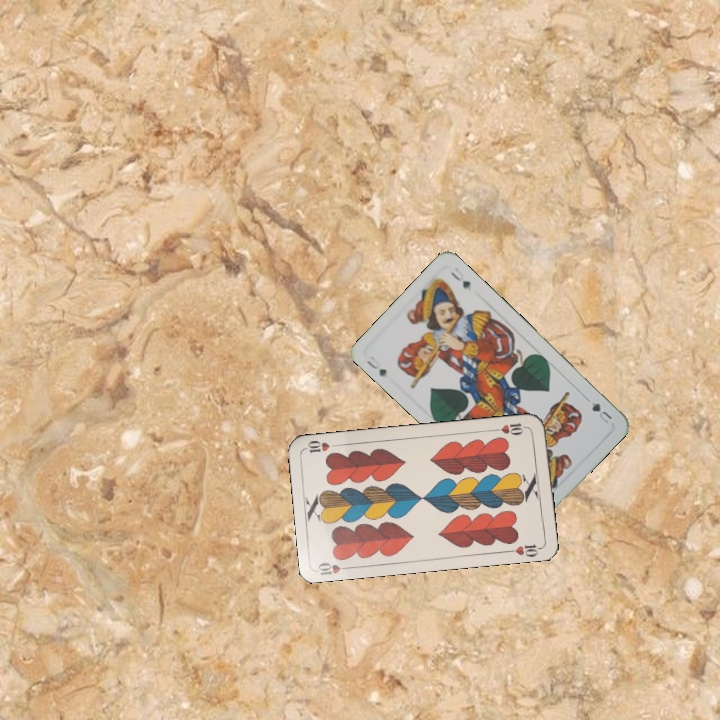GU: (587, 398, 615, 426), (363, 356, 389, 379)
H10: (490, 419, 530, 438), (314, 558, 354, 577)
